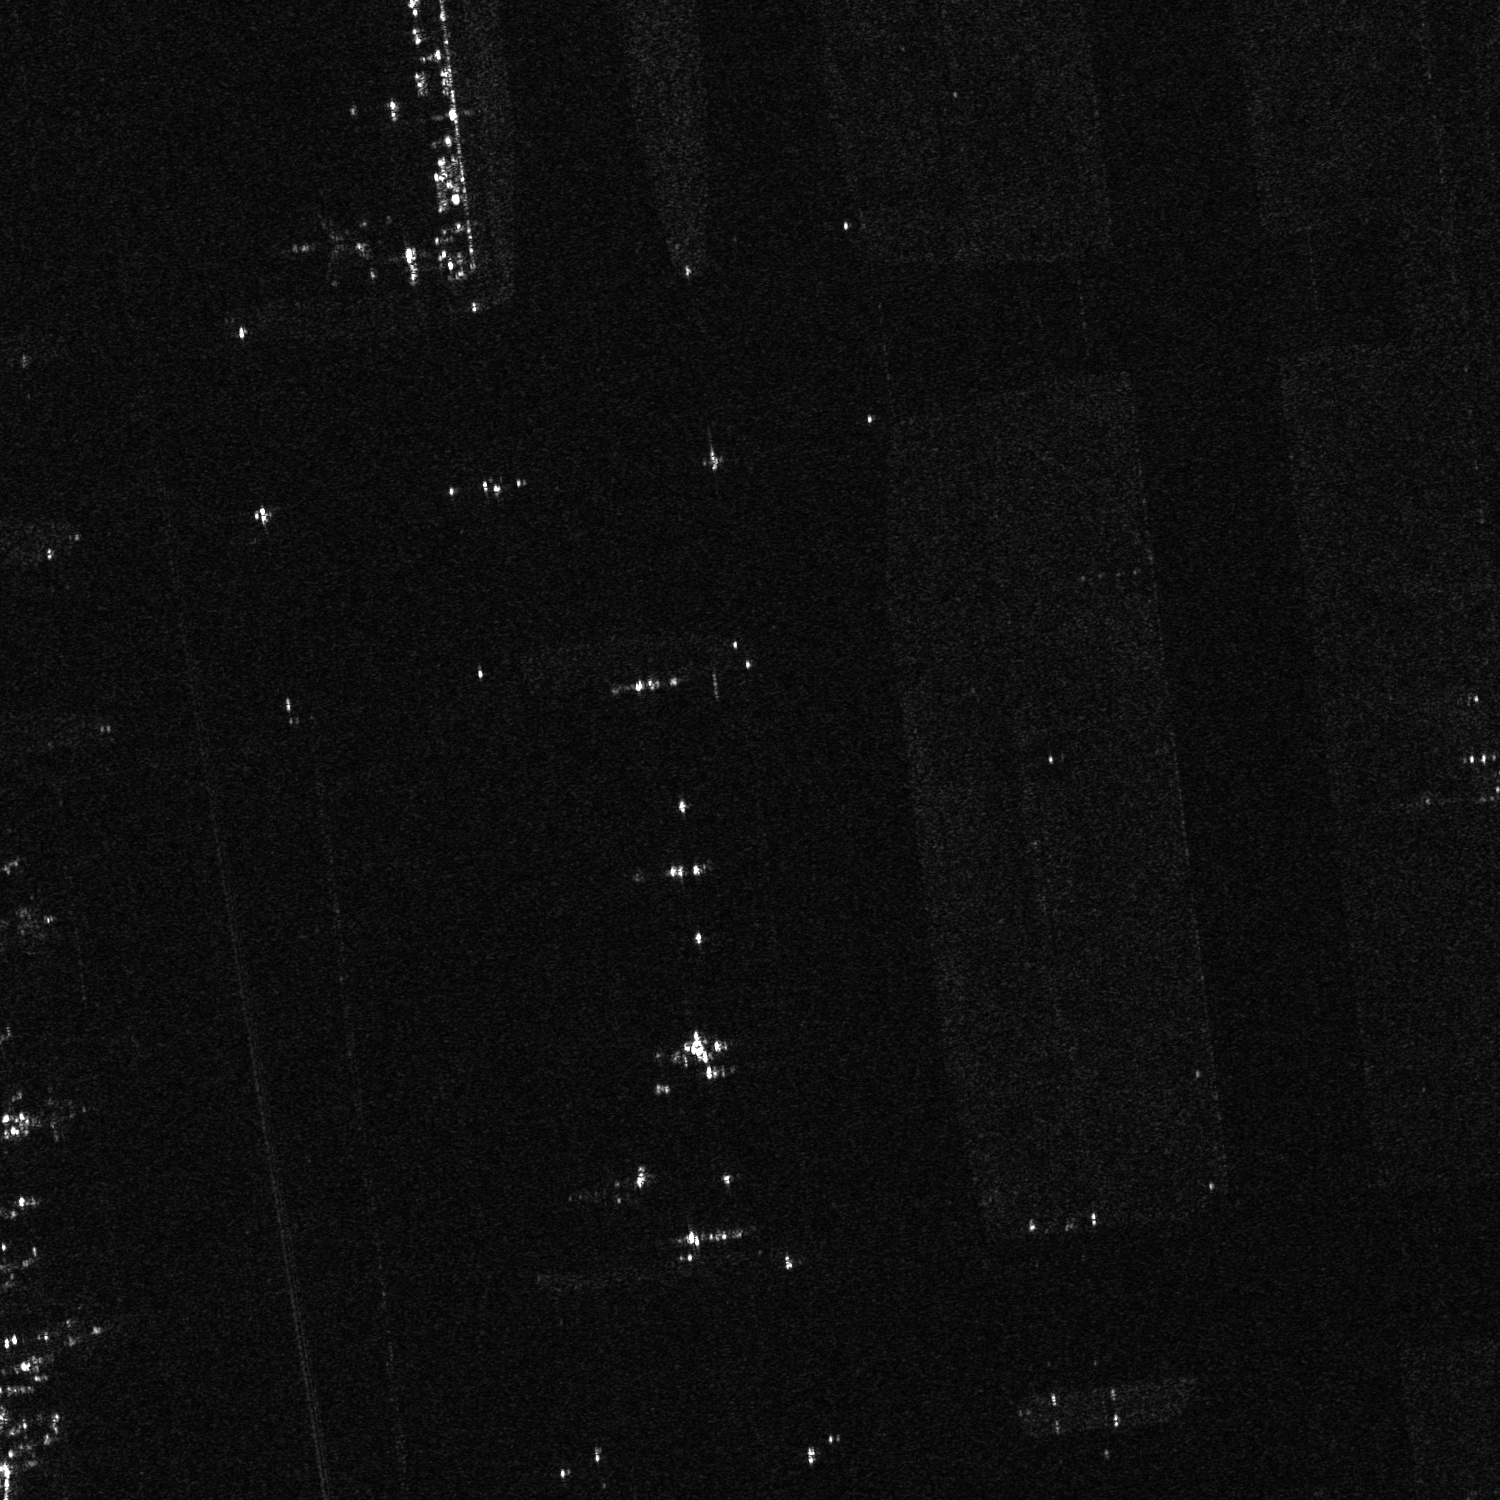A220: (670, 1023, 734, 1082)
Boeing787: (286, 209, 359, 284)
